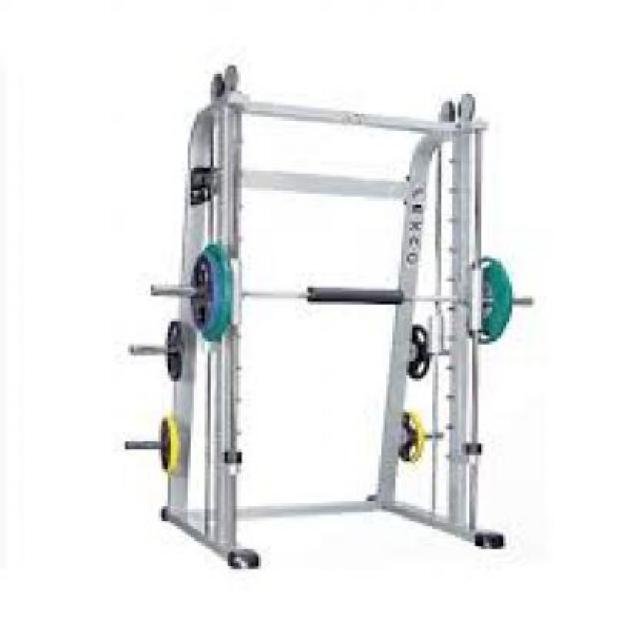smith machine: (123, 63, 534, 572)
